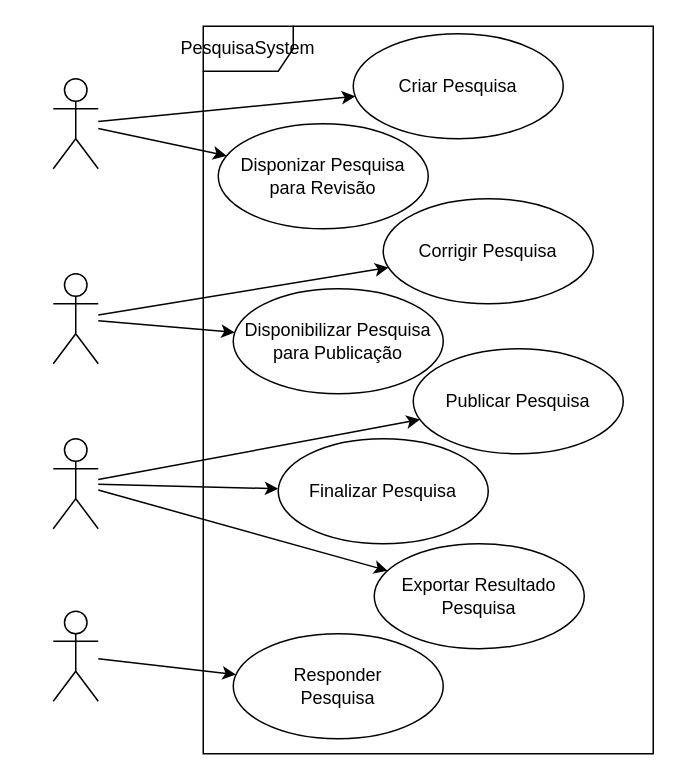
This 680x780 diagram has some shape labels left out. Here are the shapes that lost their labels. From the top down, the centre of each, then its label:
point (75, 123): Cadastrador
point (75, 318): Revisor
point (75, 483): Gestor
point (75, 655): Convidado
